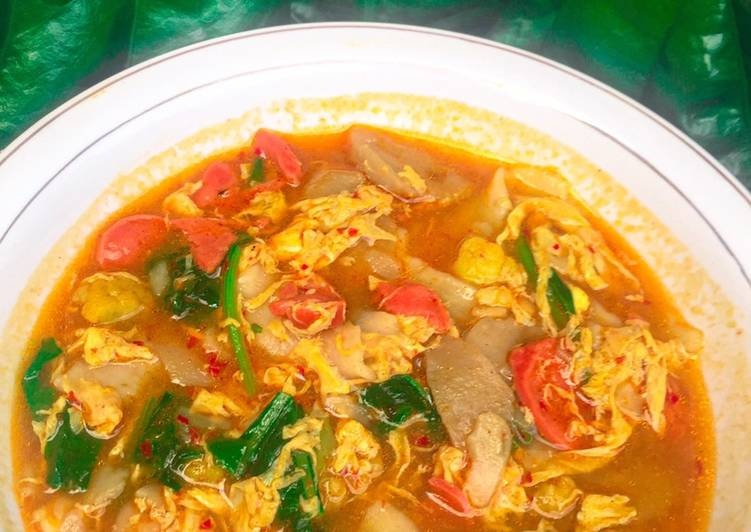seblak: (13, 130, 699, 532)
